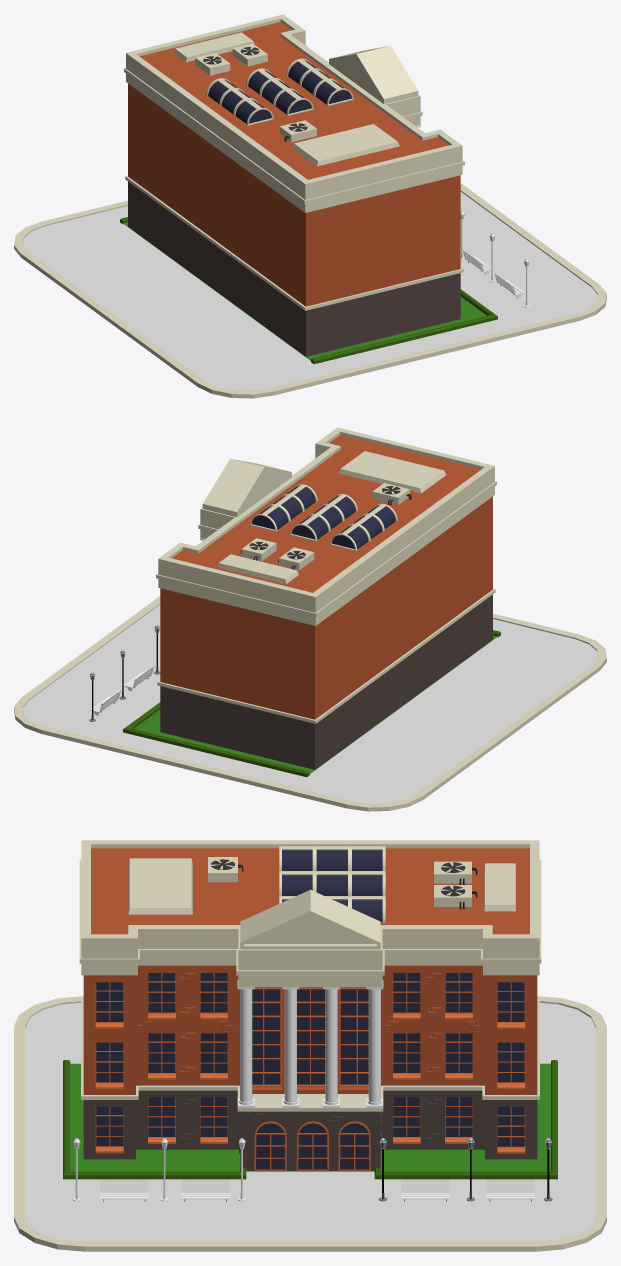
Rendered from low_poly_university_building_3d_model.glb.
The picture shows the model from 3 angles, top to bottom: view 1: azimuth 30°, elevation 25°; view 2: azimuth 150°, elevation 25°; view 3: azimuth 270°, elevation 25°; orthographic projection. The views are drawn at different scales.
Parts seen in each view (by area): view 1: Building, Footpath, Top Window, Lawn, Exhaust; view 2: Building, Footpath, Top Window, Lawn, Exhaust; view 3: Building, Footpath, Window, Lawn, Window big, Piller, Top Window, Door, Exhaust, Wall Bricks, Bench.004, Bench.003 (+2 smaller).
Part boxes in pixels (left/top/right/bottom): Building: left=124, top=14, right=464, bottom=356; Footpath: left=14, top=183, right=606, bottom=398; Top Window: left=206, top=58, right=353, bottom=125; Lawn: left=120, top=217, right=497, bottom=364; Exhaust: left=195, top=43, right=316, bottom=142; Building: left=156, top=427, right=496, bottom=769; Footpath: left=14, top=596, right=606, bottom=811; Top Window: left=250, top=484, right=397, bottom=551; Lawn: left=123, top=630, right=500, bottom=777; Exhaust: left=241, top=483, right=411, bottom=570; Building: left=79, top=840, right=541, bottom=1170; Footpath: left=14, top=996, right=606, bottom=1251; Window: left=95, top=973, right=525, bottom=1153; Lawn: left=63, top=1060, right=557, bottom=1179; Window big: left=252, top=987, right=368, bottom=1087; Piller: left=237, top=980, right=383, bottom=1107; Top Window: left=279, top=845, right=385, bottom=922; Door: left=254, top=1121, right=370, bottom=1171; Exhaust: left=208, top=857, right=477, bottom=909; Wall Bricks: left=137, top=973, right=479, bottom=1153; Bench.004: left=181, top=1179, right=229, bottom=1201; Bench.003: left=486, top=1179, right=534, bottom=1201.
Size of the model in its own units: 22.71 by 11.21 by 22.71.
